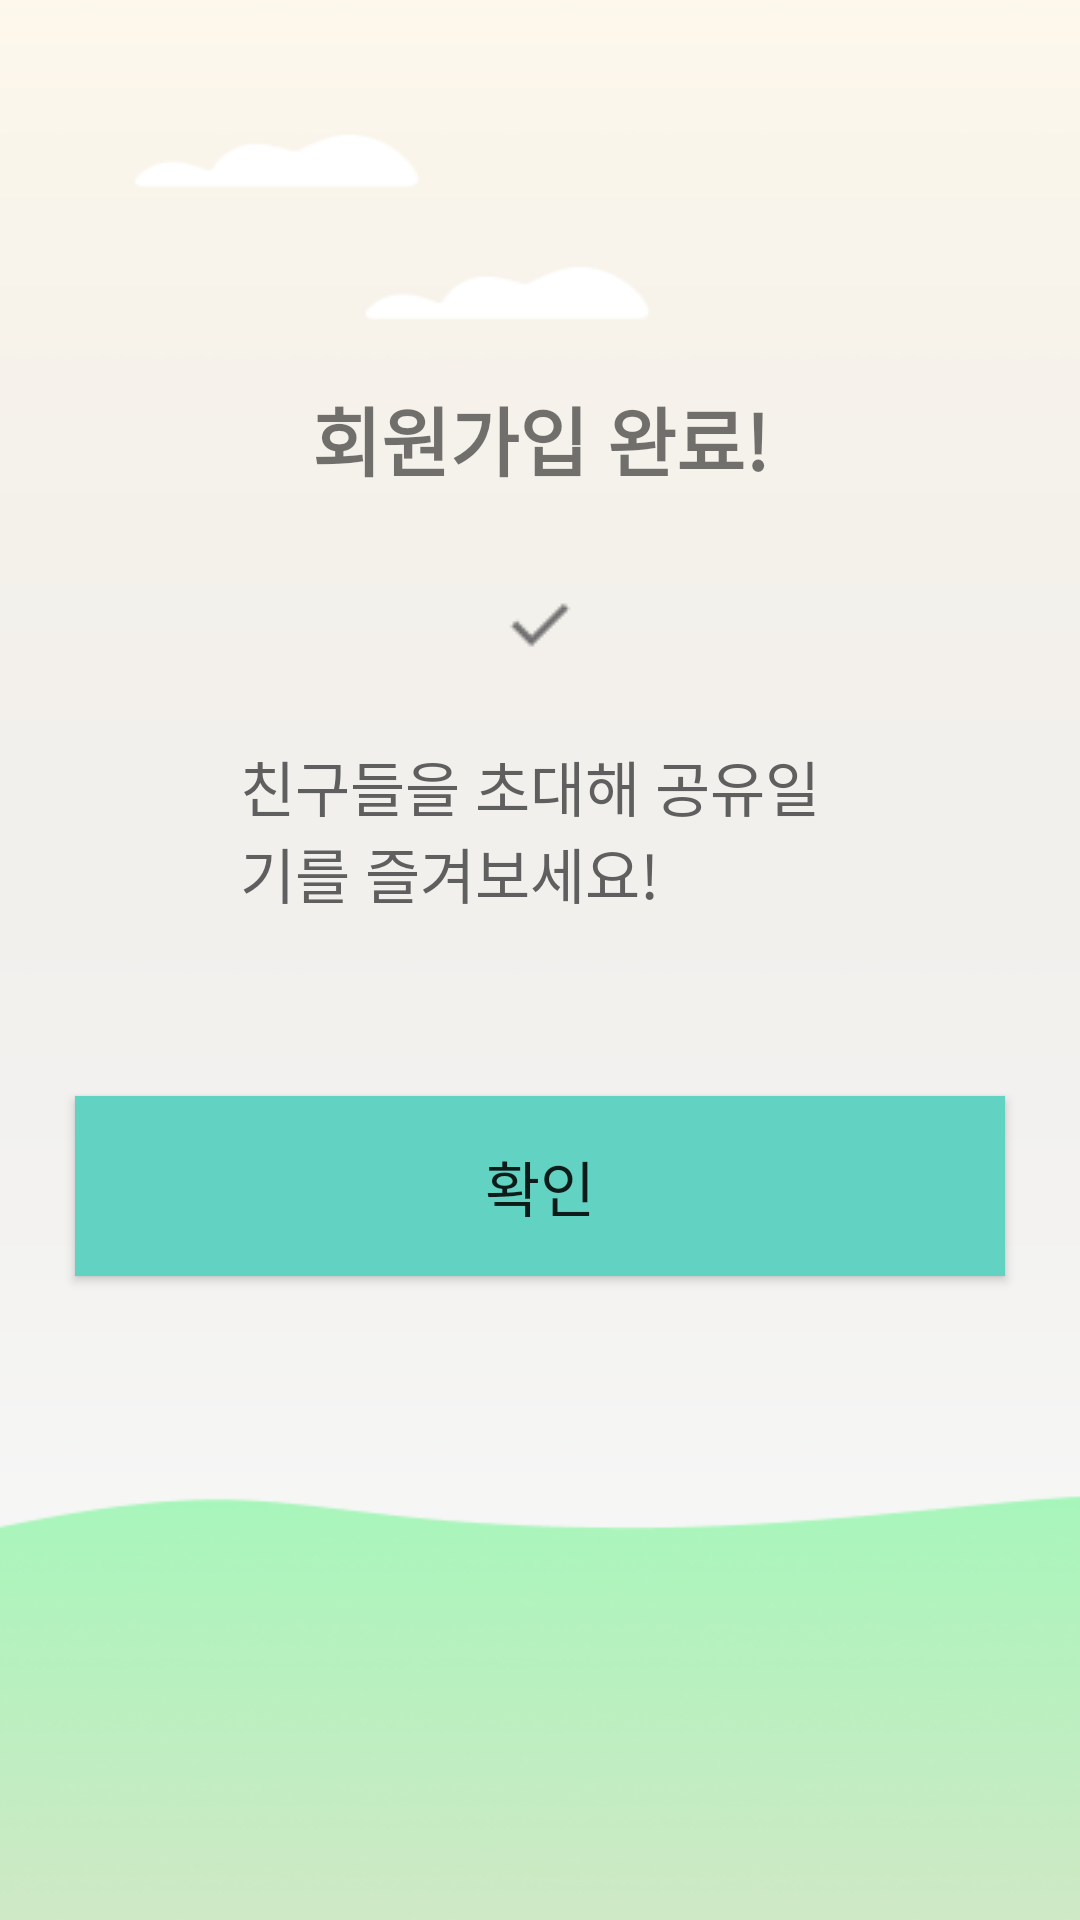

Where to tap for icons on this 1080x1920 app screen, as (x=x, y=y):
check: (x=540, y=625)
